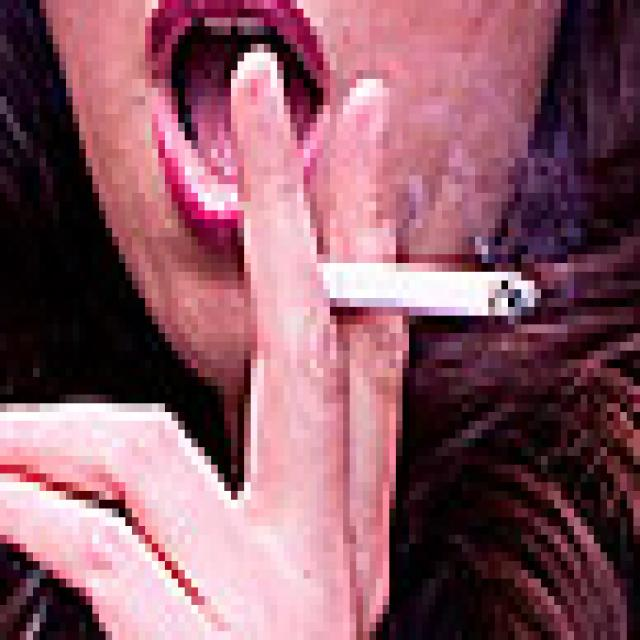smoking: (313, 263, 539, 315)
